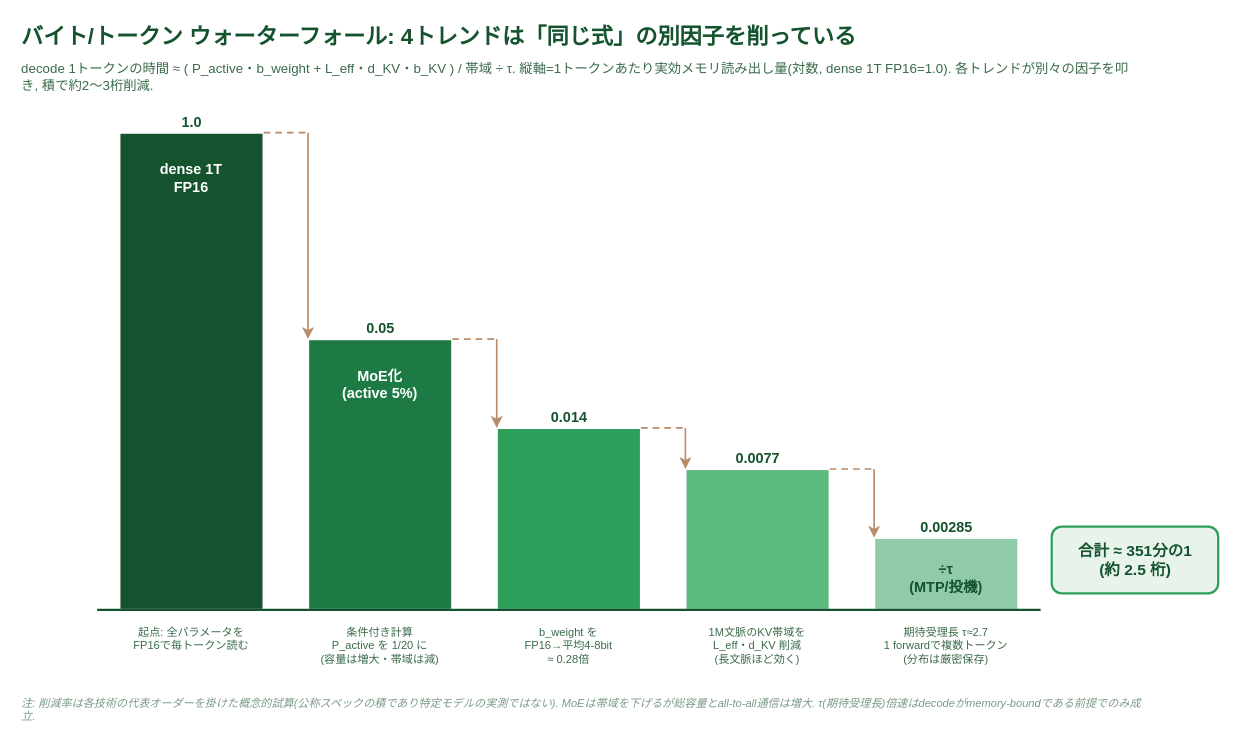
The diagram is 1238 pixels wide and 753 high, and some of its shapes have lost their labels. The shapes that lost their labels are listed below. From the top down, each one's centre as x and y in pixels, then its label:
At point 568,518: "低ビット (FP4/8)".
At point 757,538: "KV圧縮 (MLA/DSA)".
